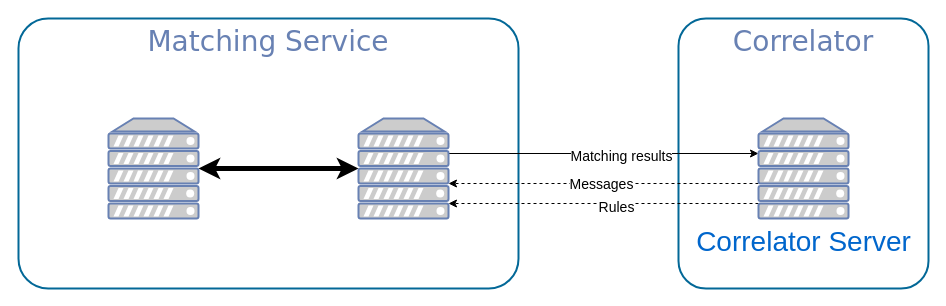
This 946x306 diagram has some shape labels left out. Each missing label, with the centre of its shape:
"Cpee Engine" goes at point (403, 168).
"Matching Server" goes at point (153, 168).
